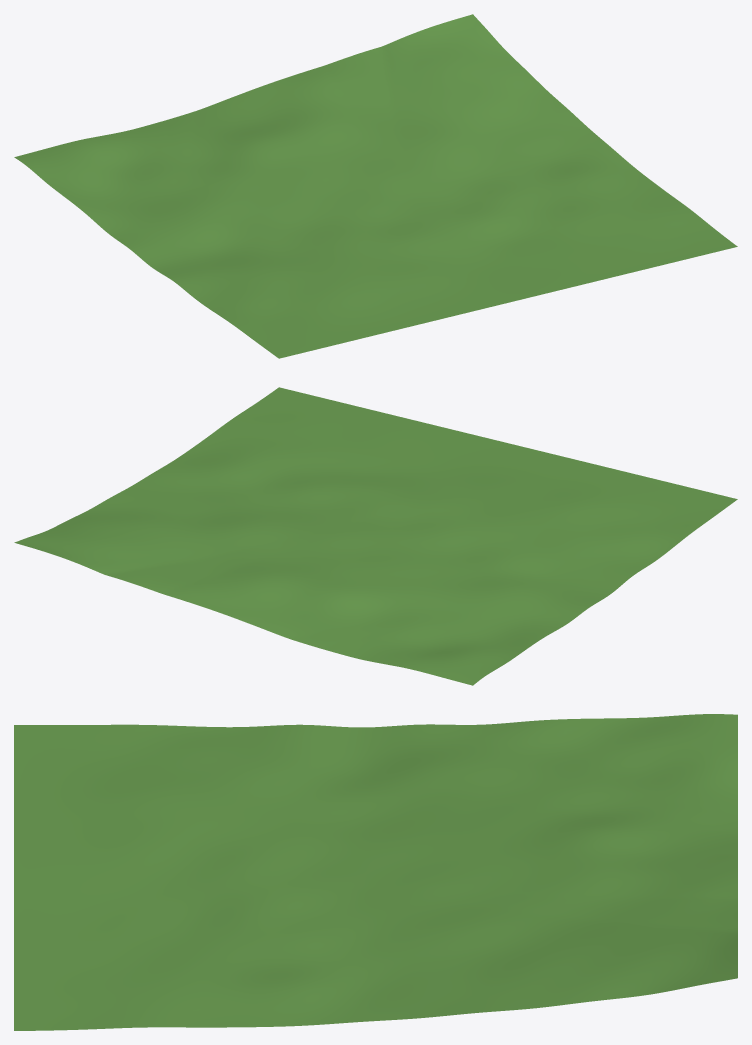
The model's file is SM_Terrain_02_07.fbx.
3 renders of one model, top to bottom at view 1: azimuth 30°, elevation 25°; view 2: azimuth 150°, elevation 25°; view 3: azimuth 270°, elevation 25°, orthographic. The views are drawn at different scales.
Visible parts, largest first — view 1: SM_Terrain_02_07; view 2: SM_Terrain_02_07; view 3: SM_Terrain_02_07.
Part boxes in pixels (x1,y1,x2,y2): SM_Terrain_02_07: (14,14,737,358); SM_Terrain_02_07: (14,387,737,685); SM_Terrain_02_07: (14,714,737,1030).
Bounding box in the file's own units: 384 × 32.43 × 384.
